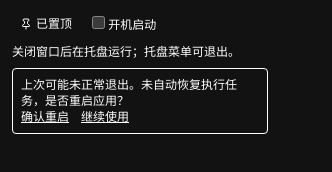
Test: does not restart on abnormal startup without confirmation
Expected: the text "上次可能未正常退出。未自动恢复执行任务，是否重启应用？" is shown, x1=21 y1=77 x2=259 y2=109
Click the button "继续使用".
click(105, 117)  # box x1=81 y1=109 x2=129 y2=125
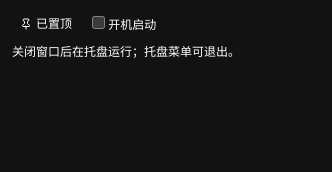
Now the text "上次可能未正常退出" is gone
